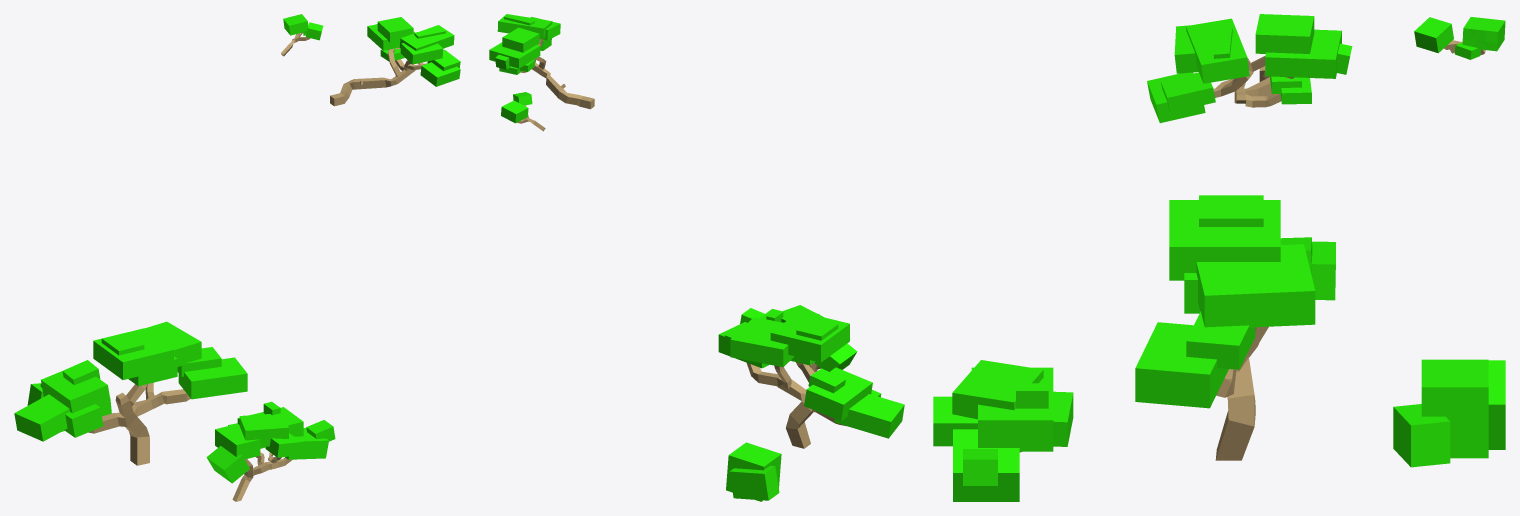
File: GreeneryV1.fbx
3 renders of one model, left to right at view 1: azimuth 30°, elevation 25°; view 2: azimuth 150°, elevation 25°; view 3: azimuth 270°, elevation 25°, orthographic. The views are drawn at different scales.
Parts seen in each view (by area): view 1: Bush_GroundTall, Bush_GroundMushroomy, Bush_WallHD, Bush_WallTiny; view 2: Bush_GroundTall, Bush_WallHD, Bush_GroundSimple, Bush_GroundMushroomy, Bush_WallTiny; view 3: Bush_GroundTall, Bush_WallHD, Bush_GroundMushroomy, Bush_GroundSimple, Bush_WallTiny.
Part boxes in pixels (box(x1,y1,x2,y2)): Bush_GroundTall: box(14, 321, 247, 465); Bush_GroundMushroomy: box(206, 401, 335, 501); Bush_WallHD: box(330, 17, 460, 106); Bush_WallTiny: box(281, 14, 323, 56); Bush_GroundTall: box(718, 311, 904, 448); Bush_WallHD: box(489, 14, 594, 109); Bush_GroundSimple: box(726, 442, 781, 501); Bush_GroundMushroomy: box(740, 305, 857, 372); Bush_WallTiny: box(501, 92, 545, 131); Bush_GroundTall: box(1135, 195, 1335, 460); Bush_WallHD: box(1147, 14, 1352, 123); Bush_GroundMushroomy: box(933, 360, 1073, 501); Bush_GroundSimple: box(1393, 359, 1505, 467); Bush_WallTiny: box(1414, 17, 1505, 59).
Size of the model in its own units: 962 by 611 by 802.
